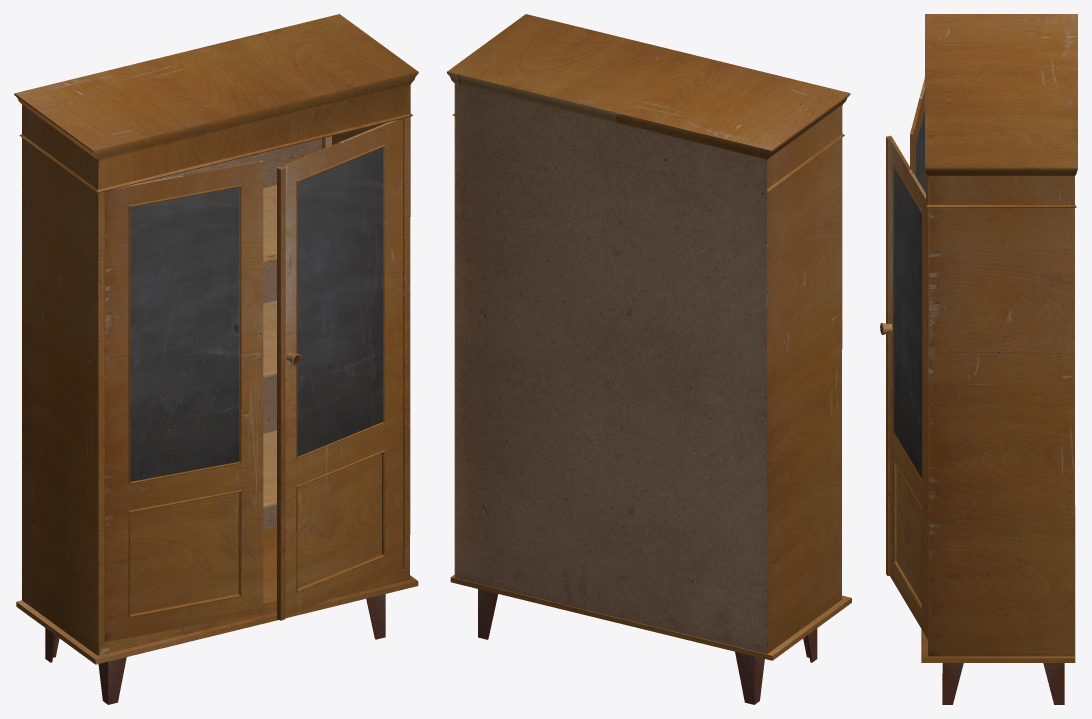
The model's file is chiffonier_2.FBX.
3 renders of one model, left to right at view 1: azimuth 30°, elevation 25°; view 2: azimuth 150°, elevation 25°; view 3: azimuth 270°, elevation 25°, orthographic. The views are drawn at different scales.
Parts seen in each view (by area): view 1: chiffonier_2; view 2: chiffonier_2; view 3: chiffonier_2.
Part boxes in pixels (x1=…): chiffonier_2: x1=14, y1=14, x2=418, y2=704; chiffonier_2: x1=447, y1=14, x2=851, y2=704; chiffonier_2: x1=880, y1=14, x2=1077, y2=704.
Size of the model in its own units: 256 by 426 by 139.
